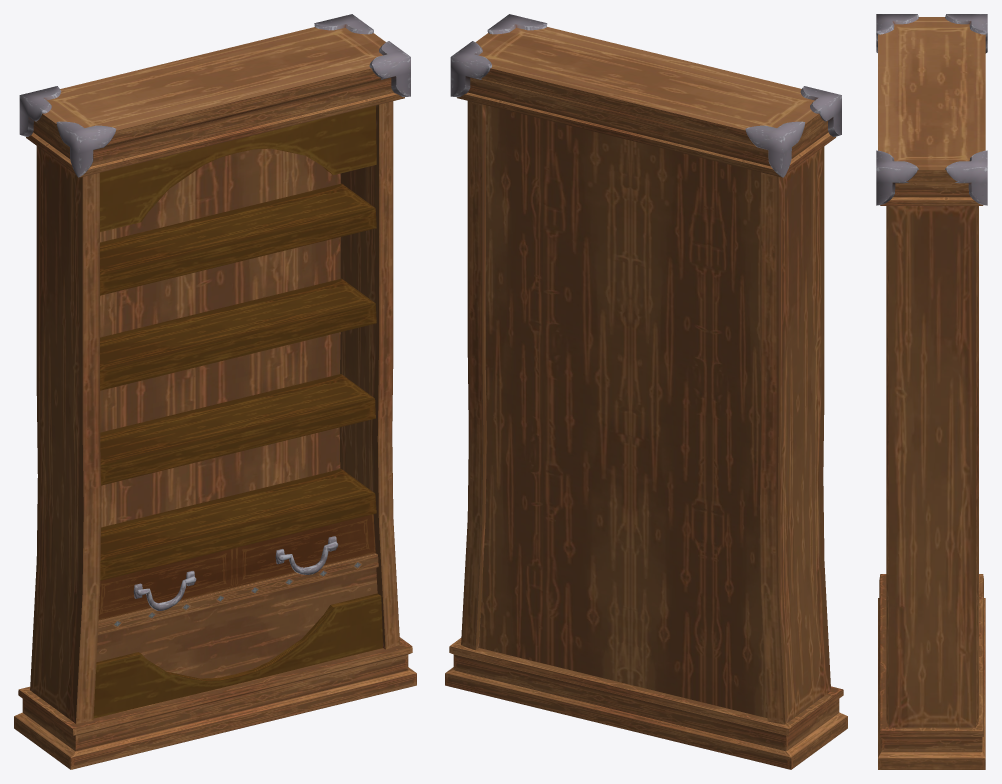
Rendered from Bookcase_2.gltf.
3 views of the same model, side by side, from view 1: azimuth 30°, elevation 25°; view 2: azimuth 150°, elevation 25°; view 3: azimuth 270°, elevation 25° (orthographic). The views are drawn at different scales.
Visible parts, largest first — view 1: Bookcase_2; view 2: Bookcase_2; view 3: Bookcase_2.
Part boxes in pixels (x1,y1,x2,y2): Bookcase_2: (14,14,416,769); Bookcase_2: (445,14,847,769); Bookcase_2: (876,14,987,769).
Size of the model in its own units: 1.46 by 2.54 by 0.429.
Materials: 2 (2 with a texture image).
